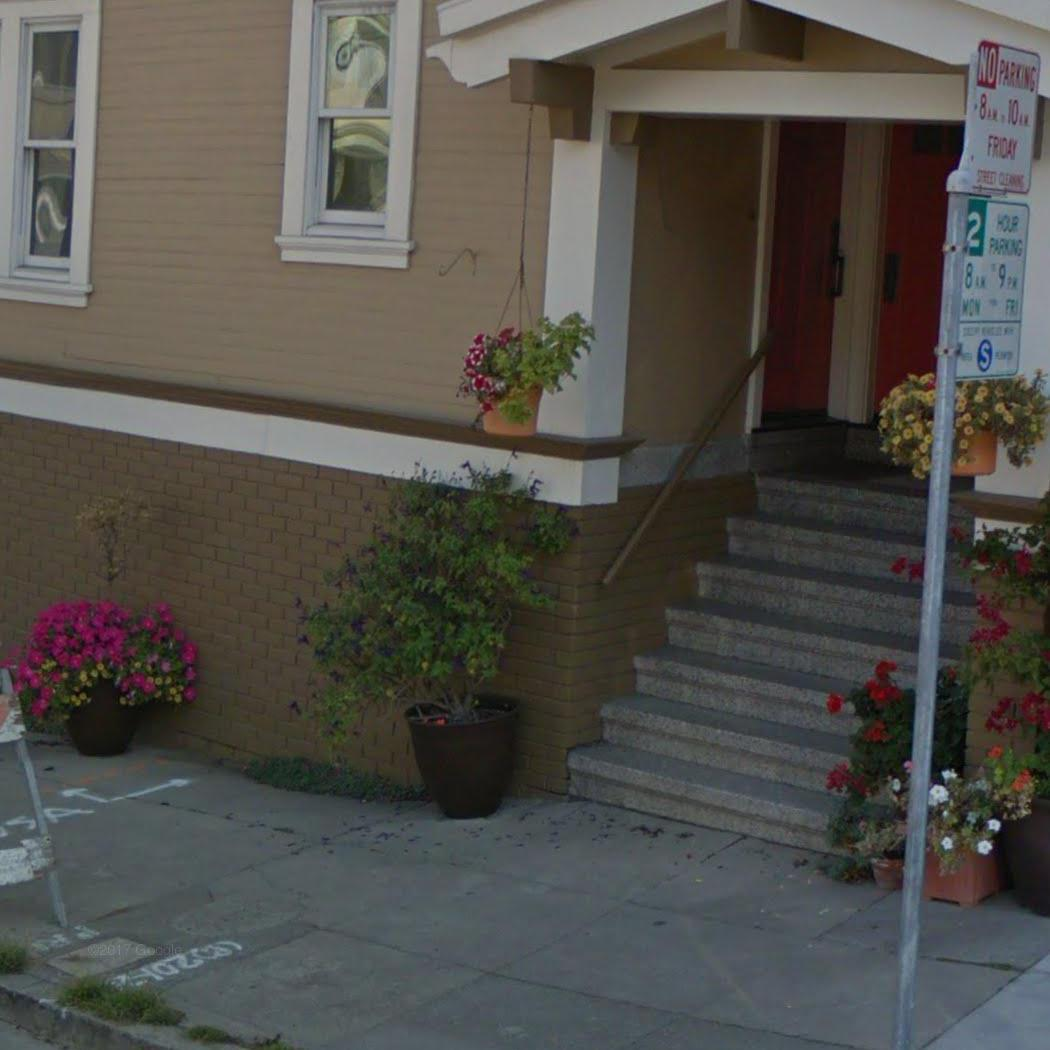2 Hour Parking: (941, 197, 1037, 385)
No Parking: (957, 34, 1046, 197)
